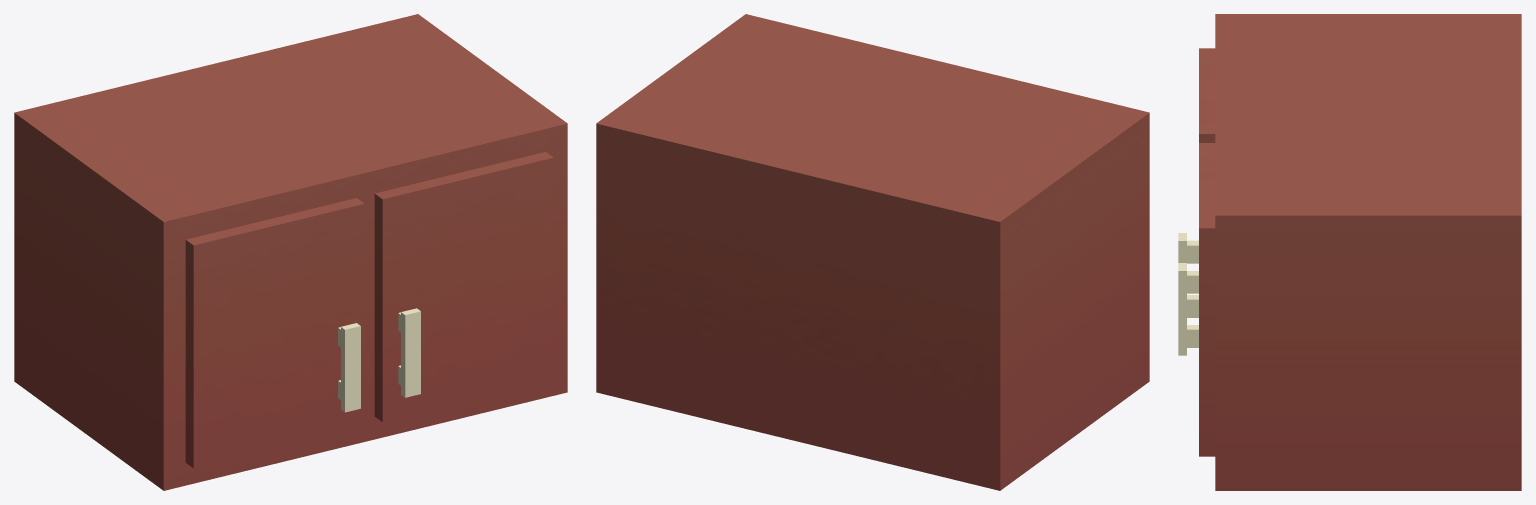
The model's file is SM_Cabinet_Upper_2_04.fbx.
3 renders of one model, left to right at view 1: azimuth 30°, elevation 25°; view 2: azimuth 150°, elevation 25°; view 3: azimuth 270°, elevation 25°, orthographic. The views are drawn at different scales.
Parts seen in each view (by area): view 1: SM_Cabinet_Upper_2_04; view 2: SM_Cabinet_Upper_2_04; view 3: SM_Cabinet_Upper_2_04.
Boxes of the visible parts, x1,y1,x2,y2 form: SM_Cabinet_Upper_2_04: (14, 14, 567, 490); SM_Cabinet_Upper_2_04: (596, 14, 1149, 490); SM_Cabinet_Upper_2_04: (1178, 14, 1521, 490).
Bounding box in the file's own units: 114 × 72.67 × 82.15.
